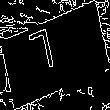L_S: (39, 26, 71, 84)
